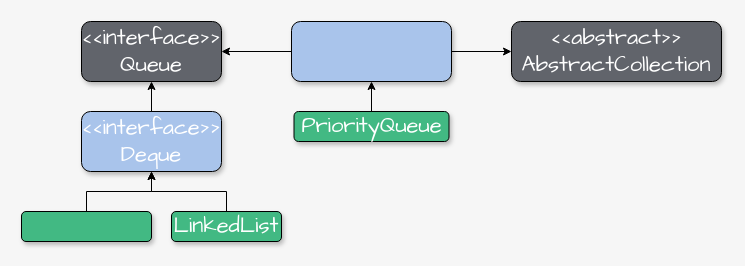
Image size: 745x266. Some labels were removed from this diagram. The shapes that lost their labels are listed below. From the top down, each one's centre as x and y in pixels, then its label:
the point at 372,52: <<abstract>> AbstractQueue
the point at 87,227: ArrayDeque
